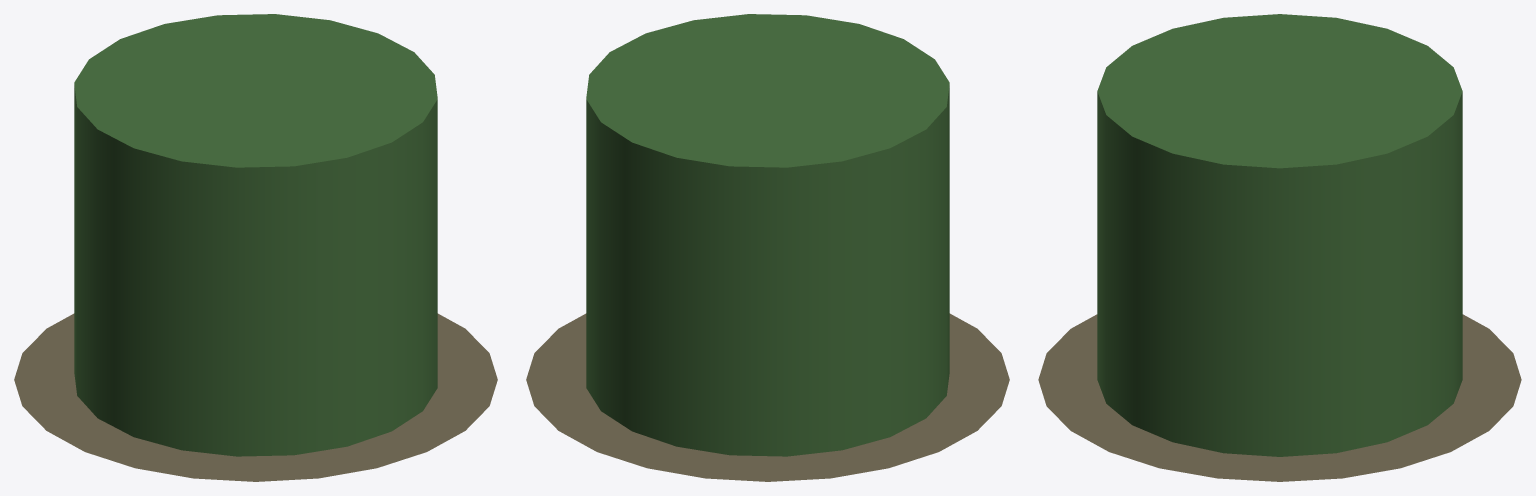
File: test_stage.fbx
The picture shows the model from 3 angles, left to right: view 1: azimuth 30°, elevation 25°; view 2: azimuth 150°, elevation 25°; view 3: azimuth 270°, elevation 25°; orthographic projection.
Parts seen in each view (by area): view 1: polySurface10, pDisc1; view 2: polySurface10, pDisc1; view 3: polySurface10, pDisc1.
Part boxes in pixels (x1,y1,x2,y2): polySurface10: [74, 14, 437, 456]; pDisc1: [14, 313, 497, 481]; polySurface10: [586, 14, 949, 456]; pDisc1: [526, 313, 1009, 481]; polySurface10: [1097, 14, 1462, 456]; pDisc1: [1038, 314, 1521, 481].
Bounding box in the file's own units: 7234 × 4814 × 7234.
